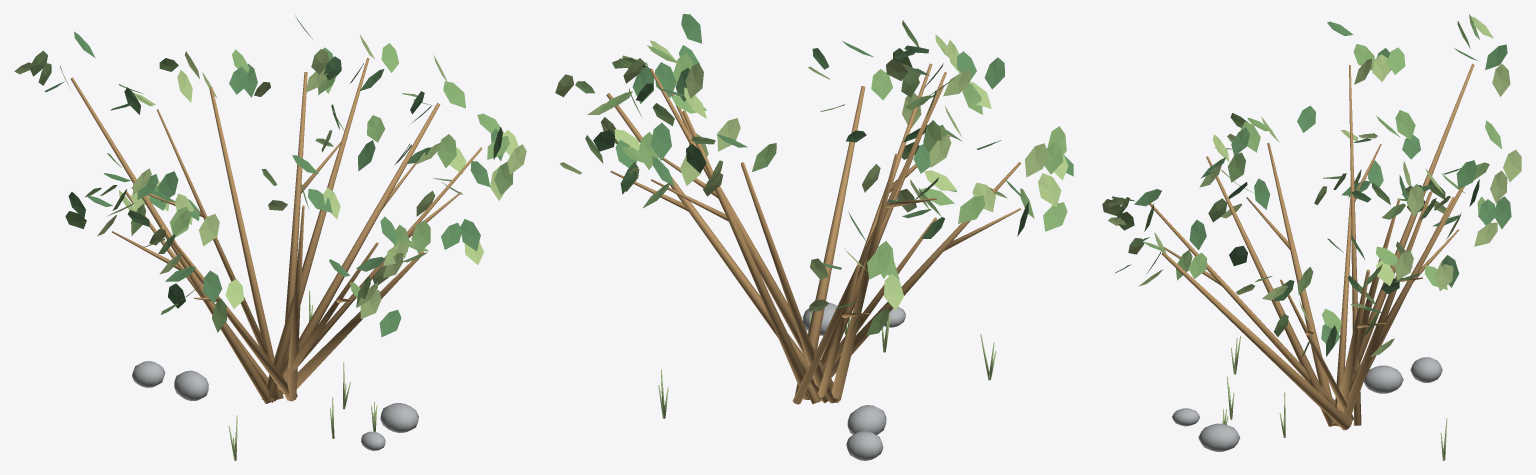
File: green_bush_c.glb
The picture shows the model from 3 angles, left to right: view 1: azimuth 30°, elevation 25°; view 2: azimuth 150°, elevation 25°; view 3: azimuth 270°, elevation 25°; orthographic projection. The views are drawn at different scales.
Visible parts, largest first — view 1: green_bush_c_stem_1, green_bush_c_stem_5, green_bush_c_stem_0, green_bush_c_stem_3, green_bush_c_stem_2, green_bush_c_stem_9, green_bush_c_stem_11, green_bush_c_stem_8, green_bush_c_stem_6, green_bush_c_stem_12, bush_ground_rock_3, green_bush_c_stem_10 (+2 smaller); view 2: green_bush_c_stem_2, green_bush_c_stem_0, green_bush_c_stem_11, green_bush_c_stem_1, green_bush_c_stem_5, green_bush_c_stem_6, green_bush_c_stem_3, green_bush_c_stem_8, green_bush_c_stem_9, bush_ground_rock_0, bush_ground_rock_1, green_bush_c_stem_4 (+5 smaller); view 3: green_bush_c_stem_11, green_bush_c_stem_9, green_bush_c_stem_8, green_bush_c_stem_2, green_bush_c_stem_5, green_bush_c_stem_10, green_bush_c_stem_6, green_bush_c_stem_7, green_bush_c_stem_3, green_bush_c_stem_0, bush_ground_rock_3, bush_ground_rock_0 (+4 smaller).
Part boxes in pixels (<box>): green_bush_c_stem_1: <box>262,58,369,402</box>; green_bush_c_stem_5: <box>70,77,273,403</box>; green_bush_c_stem_0: <box>273,103,440,401</box>; green_bush_c_stem_3: <box>209,87,283,399</box>; green_bush_c_stem_2: <box>282,72,307,393</box>; green_bush_c_stem_9: <box>285,205,304,401</box>; green_bush_c_stem_11: <box>297,251,424,388</box>; green_bush_c_stem_8: <box>173,240,297,399</box>; green_bush_c_stem_6: <box>157,109,267,354</box>; green_bush_c_stem_12: <box>298,147,482,366</box>; bush_ground_rock_3: <box>380,403,418,432</box>; green_bush_c_stem_10: <box>277,242,378,389</box>; green_bush_c_stem_2: <box>682,110,809,399</box>; green_bush_c_stem_0: <box>606,93,829,403</box>; green_bush_c_stem_11: <box>795,86,865,399</box>; green_bush_c_stem_1: <box>650,68,841,403</box>; green_bush_c_stem_5: <box>831,153,897,402</box>; green_bush_c_stem_6: <box>792,85,943,404</box>; green_bush_c_stem_3: <box>741,162,822,387</box>; green_bush_c_stem_8: <box>830,162,1020,378</box>; green_bush_c_stem_9: <box>820,72,946,363</box>; bush_ground_rock_0: <box>847,405,886,434</box>; bush_ground_rock_1: <box>846,431,883,460</box>; green_bush_c_stem_4: <box>818,263,860,401</box>; green_bush_c_stem_11: <box>1162,252,1351,430</box>; green_bush_c_stem_9: <box>1206,156,1334,426</box>; green_bush_c_stem_8: <box>1267,143,1335,426</box>; green_bush_c_stem_2: <box>1342,191,1432,419</box>; green_bush_c_stem_5: <box>1353,64,1474,376</box>; green_bush_c_stem_10: <box>1149,203,1335,406</box>; green_bush_c_stem_6: <box>1349,65,1361,425</box>; green_bush_c_stem_7: <box>1334,196,1351,426</box>; green_bush_c_stem_3: <box>1349,186,1464,392</box>; green_bush_c_stem_0: <box>1336,269,1369,411</box>; bush_ground_rock_3: <box>1198,423,1240,451</box>; bush_ground_rock_0: <box>1363,365,1403,393</box>.
Bounding box in the file's own units: 1.44 × 1.18 × 1.35.
